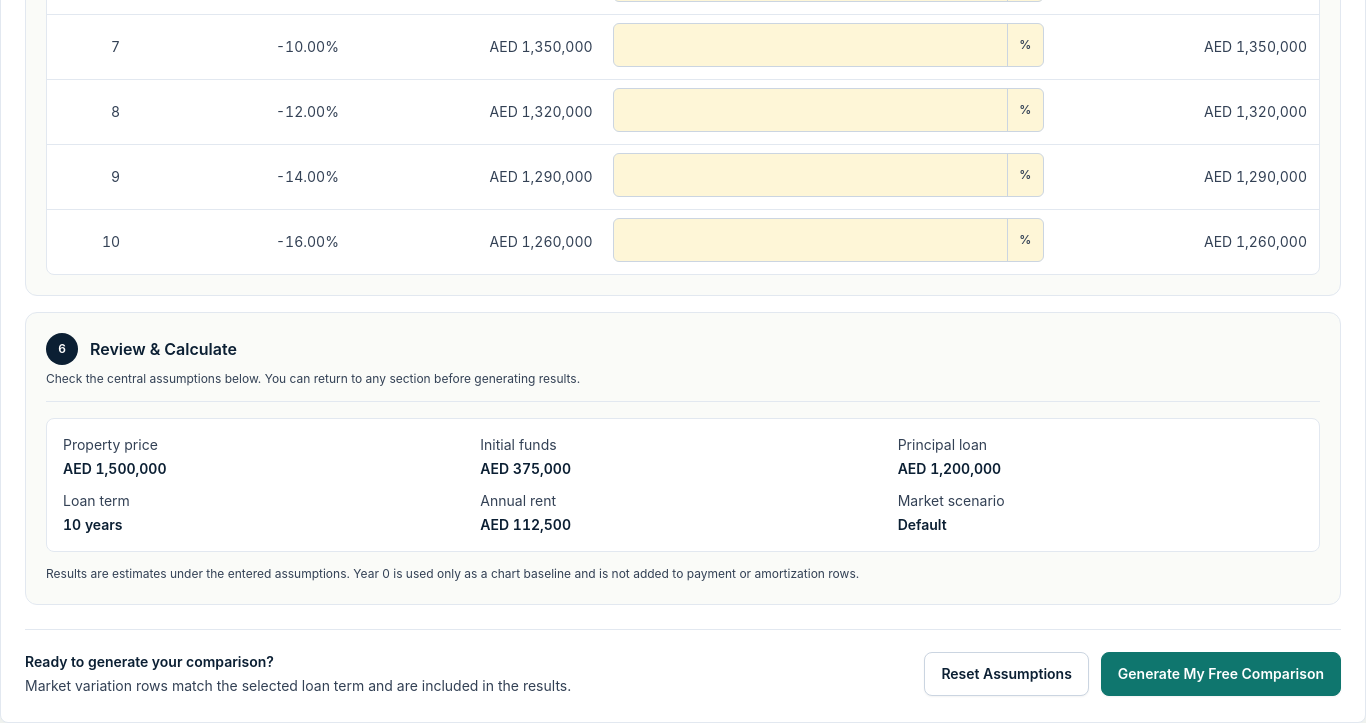
it: comparison calculator › lists missing customer details instead of showing results
(page scrolled)
What coordinates should you click on to do the following:
click the button "Generate My Free Comparison"
I would click on:
 (1221, 674)
Its box is 1101,652 -> 1341,696.
(page scrolled)
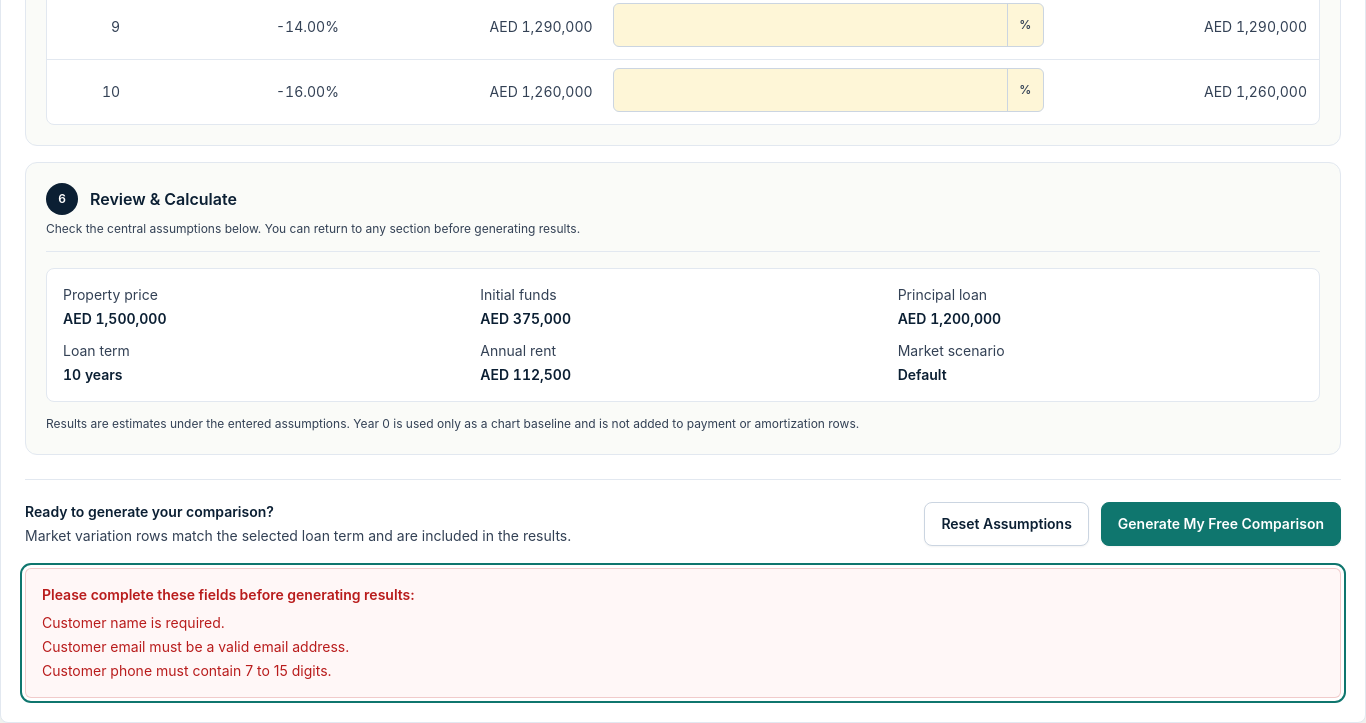
Now the message shows "Customer name is required.", box 42,614 -> 225,631
Now the message shows "Customer email must be a valid email address.", box 42,638 -> 349,655
